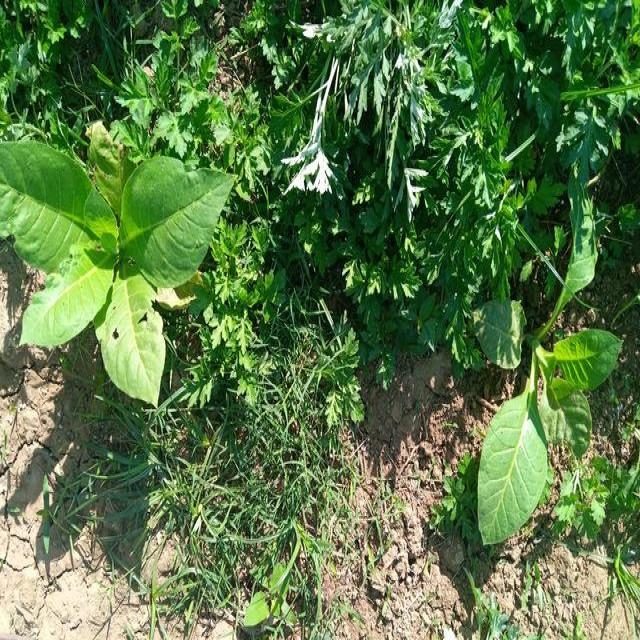crop: (2, 138, 236, 392), (477, 308, 615, 549)
